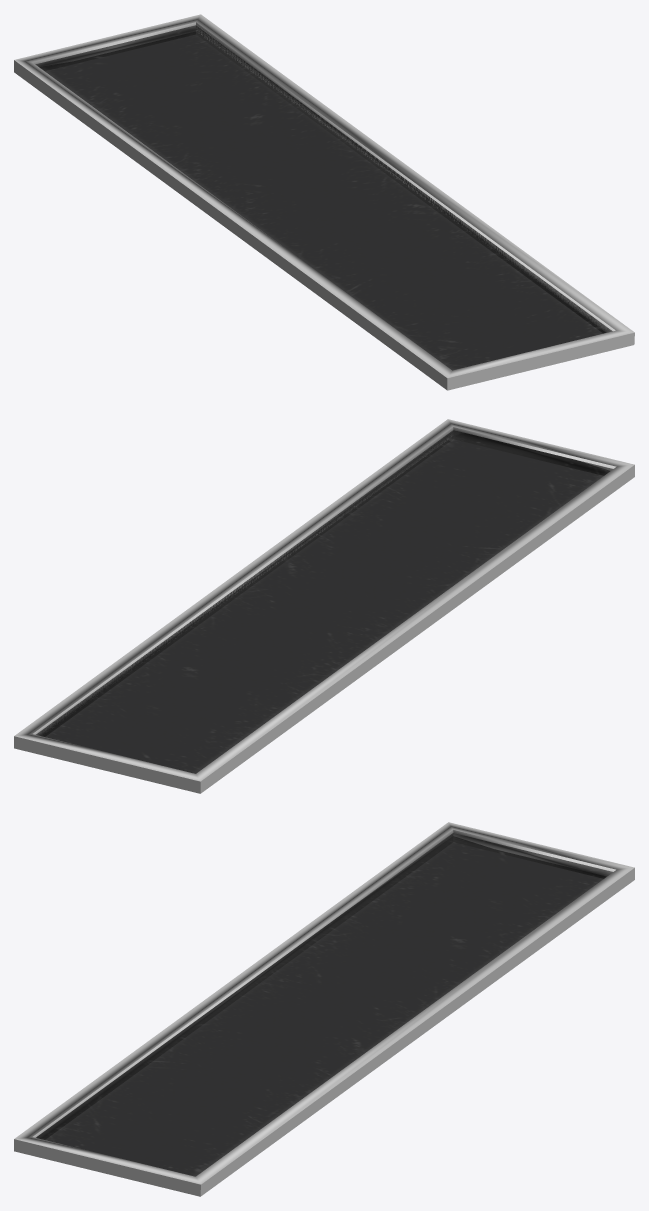
Rendered from glass_4x1.fbx.
3 renders of one model, top to bottom at view 1: azimuth 30°, elevation 25°; view 2: azimuth 150°, elevation 25°; view 3: azimuth 330°, elevation 25°, orthographic.
Parts seen in each view (by area): view 1: glass_4x1; view 2: glass_4x1; view 3: glass_4x1.
Part boxes in pixels (bbox=[...]): glass_4x1: bbox=[14, 14, 634, 390]; glass_4x1: bbox=[14, 419, 634, 793]; glass_4x1: bbox=[14, 822, 634, 1196].
Size of the model in its own units: 40 by 2.5 by 160.
